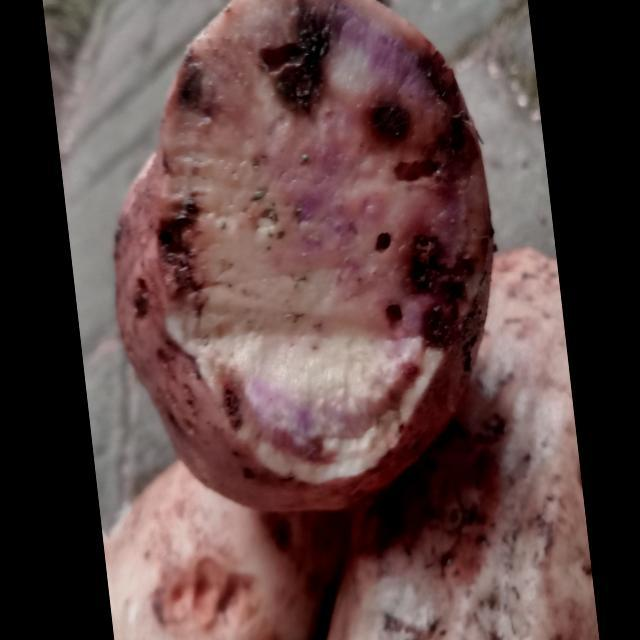Sick Sweet Potato_Tuber Rot: (151, 2, 491, 483)
